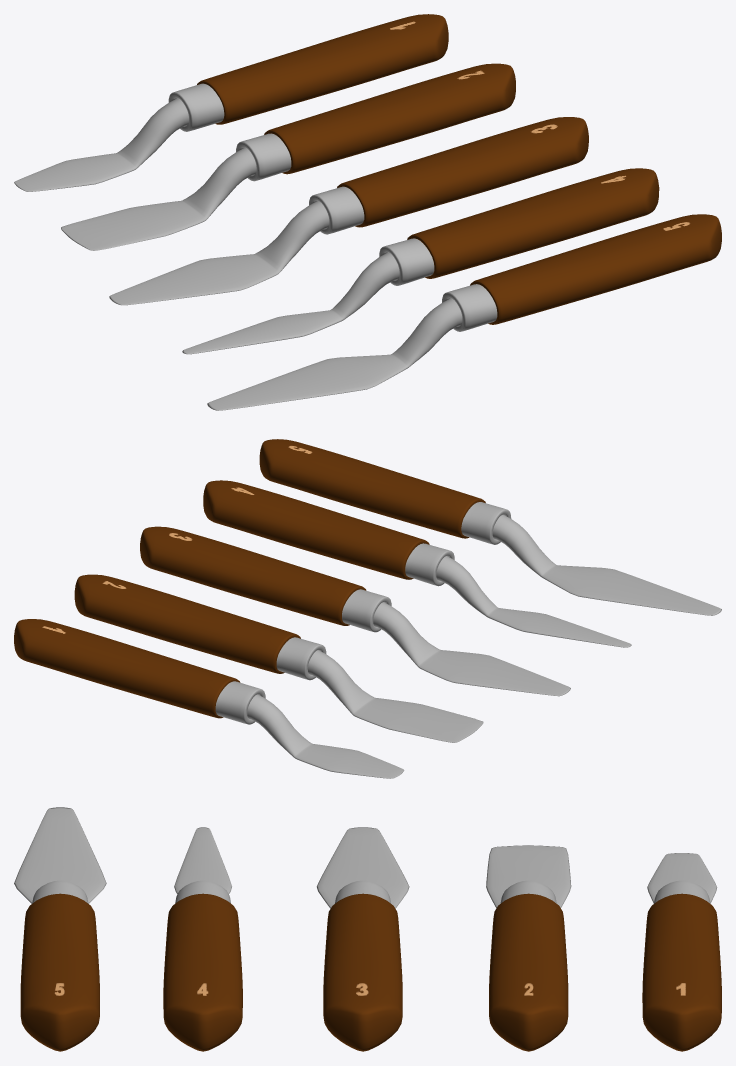
The model's file is painting knife.fbx.
The picture shows the model from 3 angles, top to bottom: view 1: azimuth 30°, elevation 25°; view 2: azimuth 150°, elevation 25°; view 3: azimuth 270°, elevation 25°; orthographic projection. The views are drawn at different scales.
Parts seen in each view (by area): view 1: Cube.001, Cube.011, Cube.002, Cube.010, Cube.004, Cube.009, Cube.007, Cube.006, Cube.005, Cube.008; view 2: Cube.001, Cube.011, Cube.002, Cube.010, Cube.004, Cube.009, Cube.007, Cube.006, Cube.005, Cube.008; view 3: Cube.010, Cube.004, Cube.002, Cube.011, Cube.001, Cube.009, Cube.007, Cube.006, Cube.008, Cube.005.
Part boxes in pixels (x1=…): Cube.001: x1=407, y1=168, x2=659, y2=278; Cube.011: x1=264, y1=63, x2=515, y2=174; Cube.002: x1=470, y1=214, x2=721, y2=324; Cube.010: x1=337, y1=117, x2=588, y2=227; Cube.004: x1=197, y1=14, x2=448, y2=124; Cube.009: x1=207, y1=284, x2=497, y2=410; Cube.007: x1=109, y1=186, x2=364, y2=305; Cube.006: x1=61, y1=133, x2=291, y2=250; Cube.005: x1=14, y1=83, x2=224, y2=191; Cube.008: x1=182, y1=238, x2=434, y2=354; Cube.001: x1=203, y1=480, x2=429, y2=579; Cube.011: x1=74, y1=574, x2=300, y2=673; Cube.002: x1=259, y1=439, x2=485, y2=538; Cube.010: x1=140, y1=526, x2=366, y2=625; Cube.004: x1=14, y1=619, x2=240, y2=718; Cube.009: x1=461, y1=502, x2=721, y2=615; Cube.007: x1=342, y1=589, x2=570, y2=696; Cube.006: x1=276, y1=637, x2=483, y2=742; Cube.005: x1=215, y1=681, x2=404, y2=778; Cube.008: x1=405, y1=543, x2=631, y2=647; Cube.010: x1=323, y1=893, x2=402, y2=1051; Cube.004: x1=642, y1=893, x2=721, y2=1051; Cube.002: x1=20, y1=893, x2=99, y2=1051; Cube.011: x1=489, y1=893, x2=568, y2=1051; Cube.001: x1=163, y1=893, x2=242, y2=1051; Cube.009: x1=14, y1=807, x2=106, y2=903; Cube.007: x1=316, y1=827, x2=409, y2=908; Cube.006: x1=486, y1=845, x2=571, y2=907; Cube.008: x1=174, y1=827, x2=231, y2=903; Cube.005: x1=647, y1=853, x2=717, y2=903.
Size of the model in its own units: 5121 by 685 by 5399.
10 materials, 5 textured.
